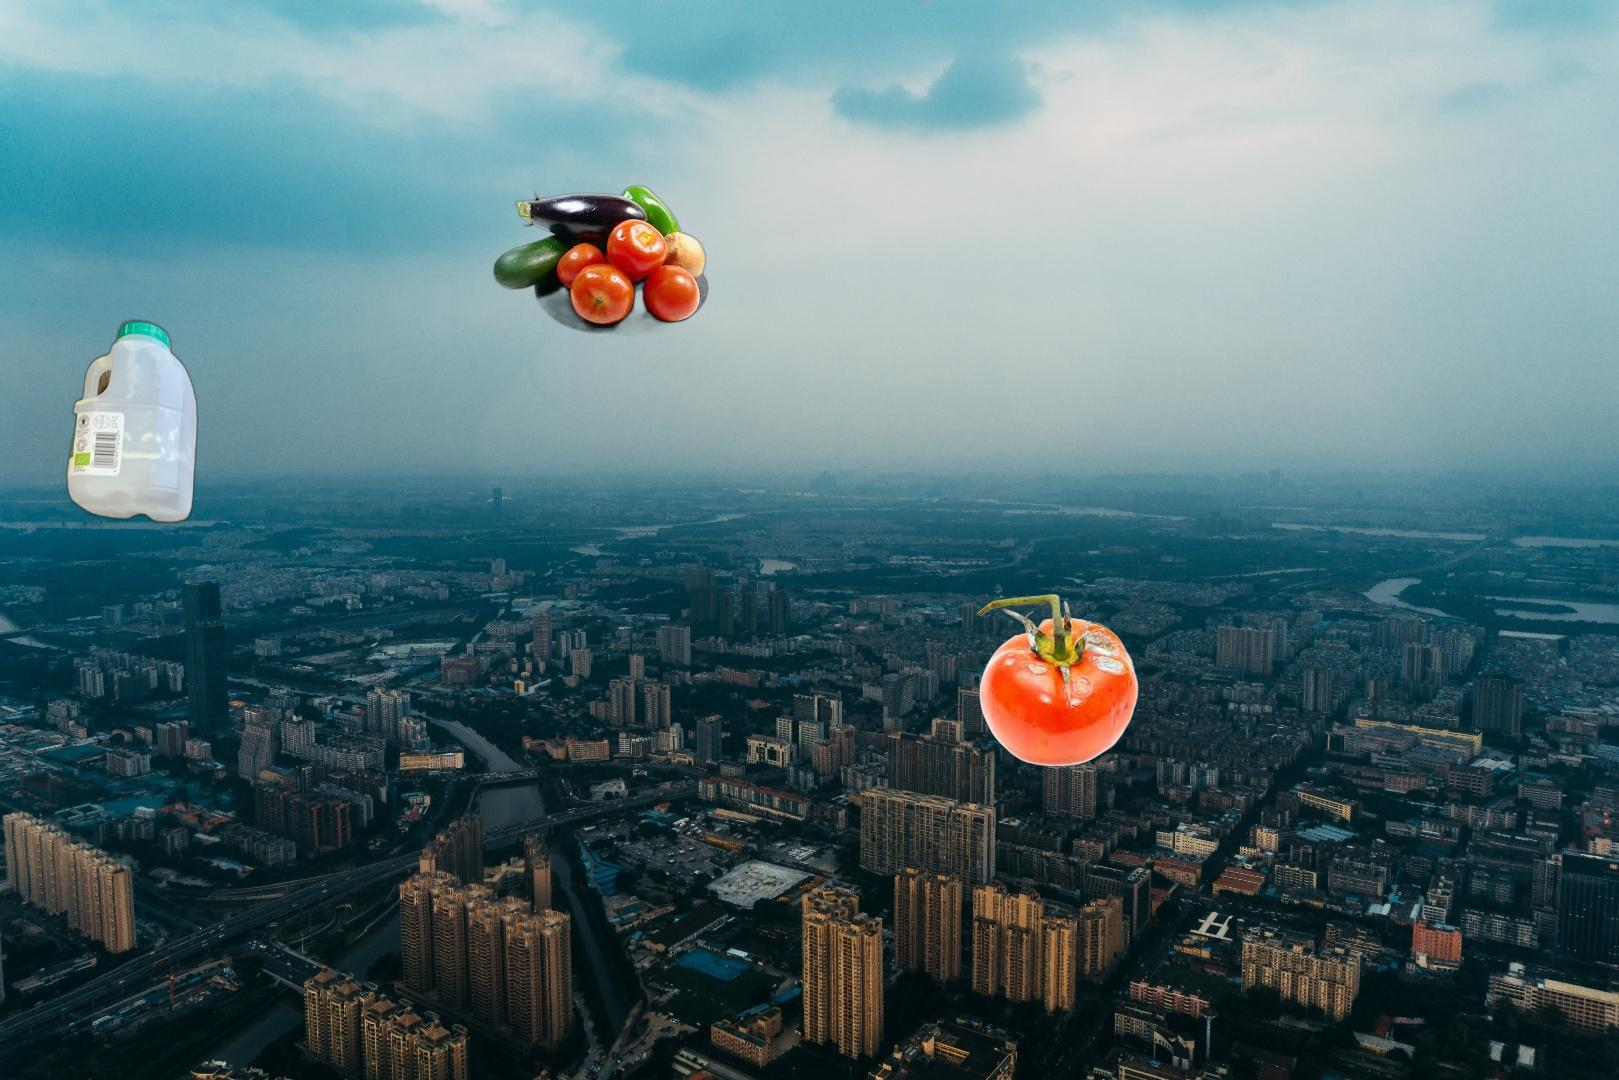biological: (489, 183, 711, 339), (976, 591, 1140, 769)
plastic-bottles: (61, 315, 474, 945)
